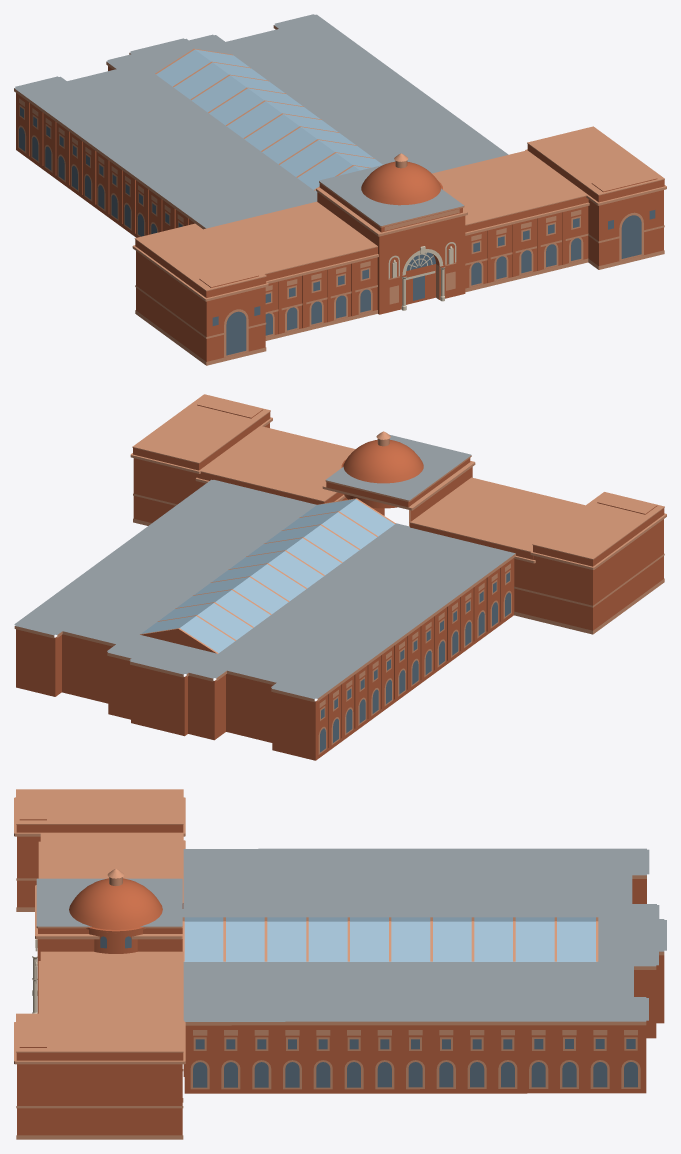
The model's file is cairo-egyptian-museum.glb.
The picture shows the model from 3 angles, top to bottom: view 1: azimuth 30°, elevation 25°; view 2: azimuth 150°, elevation 25°; view 3: azimuth 270°, elevation 25°; orthographic projection. The views are drawn at different scales.
Visible parts, largest first — view 1: Egyptian Museum; view 2: Egyptian Museum; view 3: Egyptian Museum.
Part boxes in pixels (<box>): Egyptian Museum: <box>14,14,666,365</box>; Egyptian Museum: <box>14,394,666,760</box>; Egyptian Museum: <box>14,789,666,1139</box>.
Bounding box in the file's own units: 124 × 31.8 × 130.
